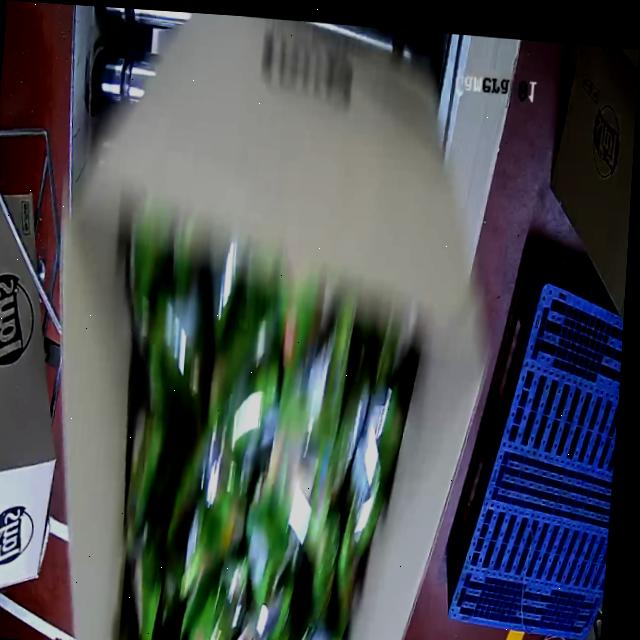YOGURT_HERB: (110, 264, 403, 640)
